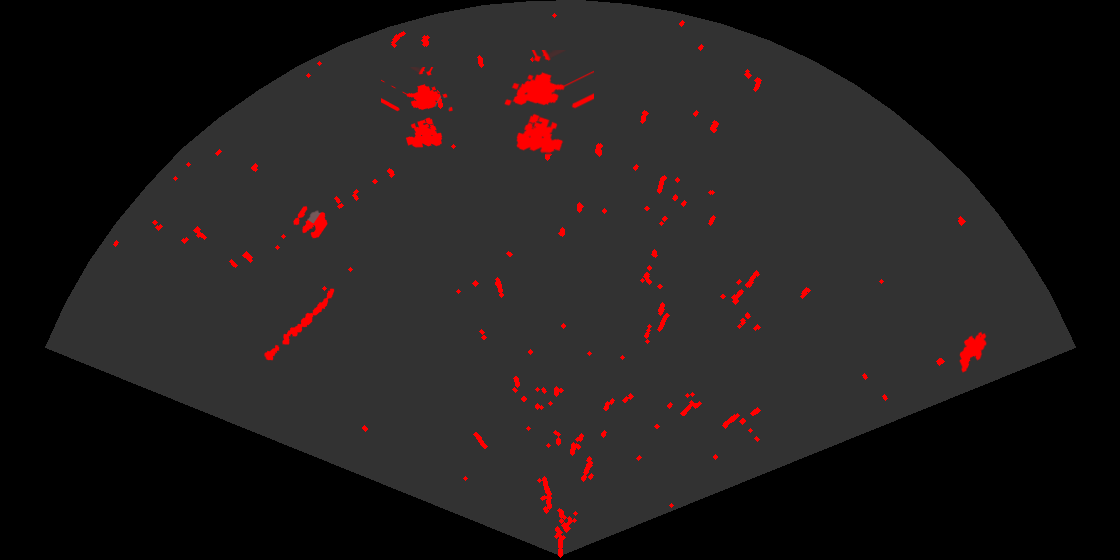AUV: (958, 330, 988, 374)
ball: (292, 205, 329, 240)
cage: (503, 50, 594, 155), (381, 67, 454, 149)
chain: (262, 287, 336, 362)
